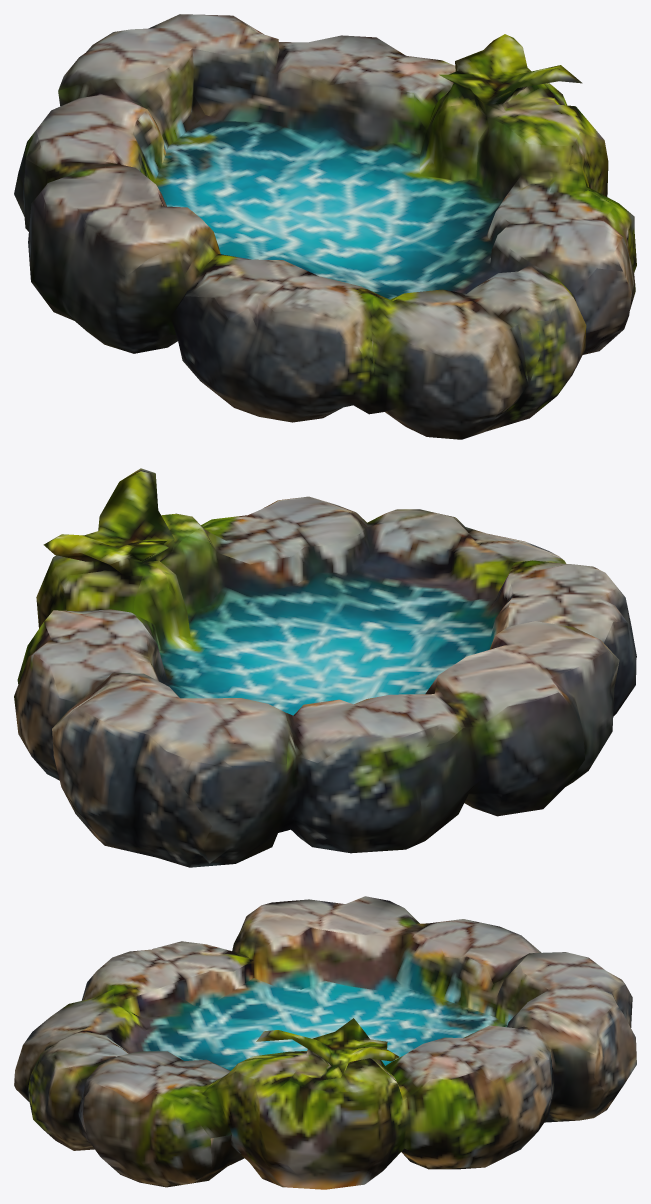
The model's file is SummerDecor_BossRoom_TidePool.fbx.
3 views of the same model, one above another, from view 1: azimuth 30°, elevation 25°; view 2: azimuth 150°, elevation 25°; view 3: azimuth 270°, elevation 25° (orthographic). The views are drawn at different scales.
Parts seen in each view (by area): view 1: SummerDecor_BossRoom_TidePool_Mesh; view 2: SummerDecor_BossRoom_TidePool_Mesh; view 3: SummerDecor_BossRoom_TidePool_Mesh.
Part boxes in pixels (box(x1,y1,x2,y2)): SummerDecor_BossRoom_TidePool_Mesh: box(14, 14, 636, 439); SummerDecor_BossRoom_TidePool_Mesh: box(14, 468, 636, 867); SummerDecor_BossRoom_TidePool_Mesh: box(14, 896, 636, 1189).
Size of the model in its own units: 4.85 by 1.9 by 6.
1 material, 1 textured.
